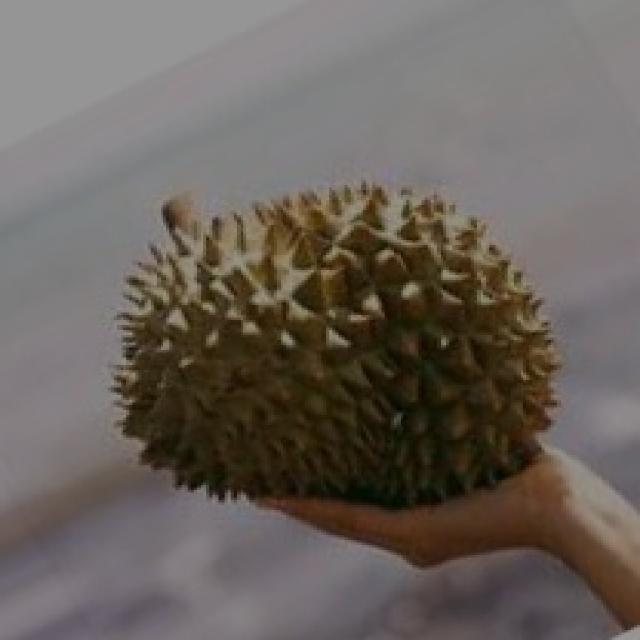fruit: (64, 148, 424, 560), (265, 150, 612, 548)
